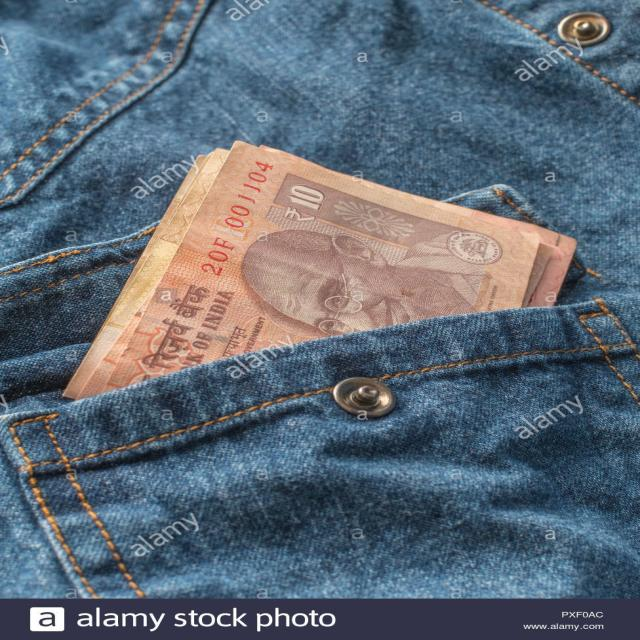10IndianRupees: (70, 148, 546, 389)
